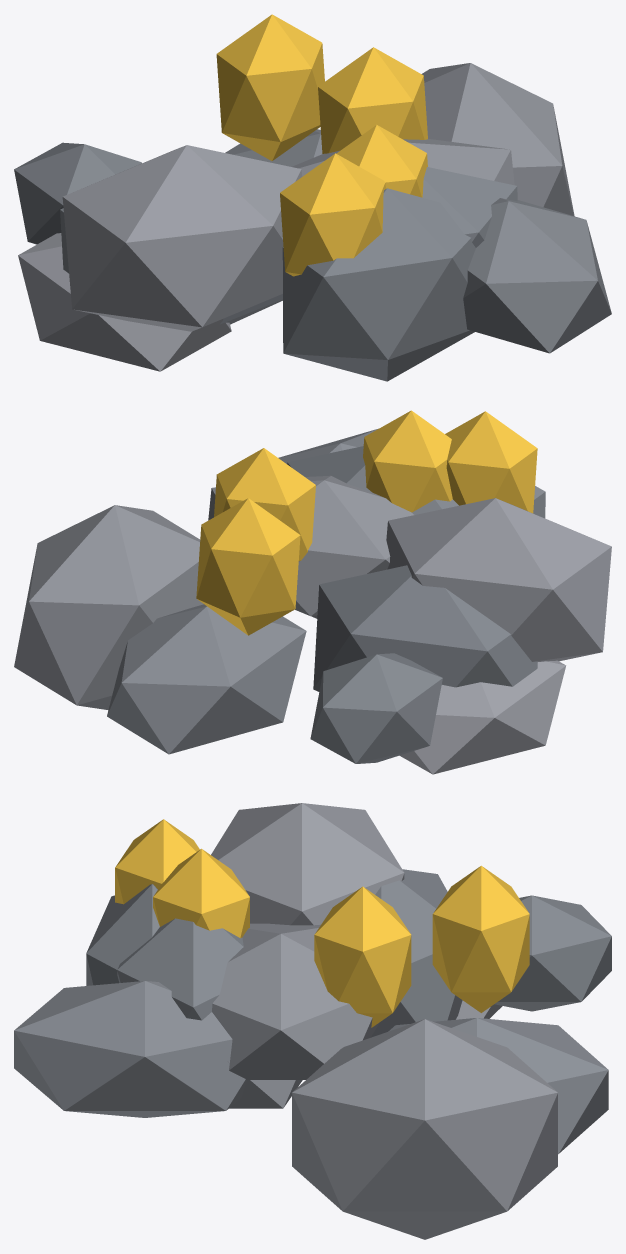
File: RockPile.fbx
3 views of the same model, one above another, from view 1: azimuth 30°, elevation 25°; view 2: azimuth 150°, elevation 25°; view 3: azimuth 270°, elevation 25° (orthographic). The views are drawn at different scales.
Parts seen in each view (by area): view 1: LooseRock.003, LooseRock.010, LooseRock.001, LooseRock.007, GoldOre.003, LooseRock, GoldOre.002, GoldOre.001, LooseRock.002, LooseRock.006, GoldOre, LooseRock.004 (+2 smaller); view 2: LooseRock.007, LooseRock.003, LooseRock.005, LooseRock.009, LooseRock.002, GoldOre.003, LooseRock, LooseRock.004, GoldOre.002, GoldOre, GoldOre.001, LooseRock.006 (+1 smaller); view 3: LooseRock.007, LooseRock.001, LooseRock.004, LooseRock.003, GoldOre.003, GoldOre.001, LooseRock.002, LooseRock.005, LooseRock.006, LooseRock.009, GoldOre, LooseRock.010 (+2 smaller).
Boxes of the visible parts, <box> form: LooseRock.003: <box>62,145,302,331</box>; LooseRock.010: <box>282,188,475,381</box>; LooseRock.001: <box>463,198,611,353</box>; LooseRock.007: <box>421,63,574,216</box>; GoldOre.003: <box>216,14,324,160</box>; LooseRock: <box>18,233,231,371</box>; GoldOre.002: <box>280,153,385,276</box>; GoldOre.001: <box>318,47,427,153</box>; LooseRock.002: <box>14,142,141,244</box>; LooseRock.006: <box>422,167,517,247</box>; GoldOre: <box>336,125,427,197</box>; LooseRock.004: <box>292,139,514,185</box>; LooseRock.007: <box>14,505,203,709</box>; LooseRock.003: <box>386,498,611,661</box>; LooseRock.005: <box>107,604,306,754</box>; LooseRock.009: <box>313,565,537,691</box>; LooseRock.002: <box>310,653,442,763</box>; GoldOre.003: <box>196,498,300,635</box>; LooseRock: <box>399,660,566,774</box>; LooseRock.004: <box>208,475,413,616</box>; GoldOre.002: <box>445,411,537,513</box>; GoldOre: <box>363,410,452,512</box>; GoldOre.001: <box>214,448,315,561</box>; LooseRock.006: <box>287,446,458,514</box>; LooseRock.007: <box>292,1019,557,1239</box>; LooseRock.001: <box>14,981,246,1117</box>; LooseRock.004: <box>212,923,379,1079</box>; LooseRock.003: <box>211,803,404,925</box>; GoldOre.003: <box>432,865,529,1012</box>; GoldOre.001: <box>314,886,411,1027</box>; LooseRock.002: <box>494,895,611,1011</box>; LooseRock.005: <box>388,1018,608,1154</box>; LooseRock.006: <box>117,918,243,1020</box>; LooseRock.009: <box>371,869,462,1037</box>; GoldOre: <box>153,848,249,938</box>; LooseRock.010: <box>86,884,159,985</box>.
Bounding box in the file's own units: 154 × 78.78 × 147.
